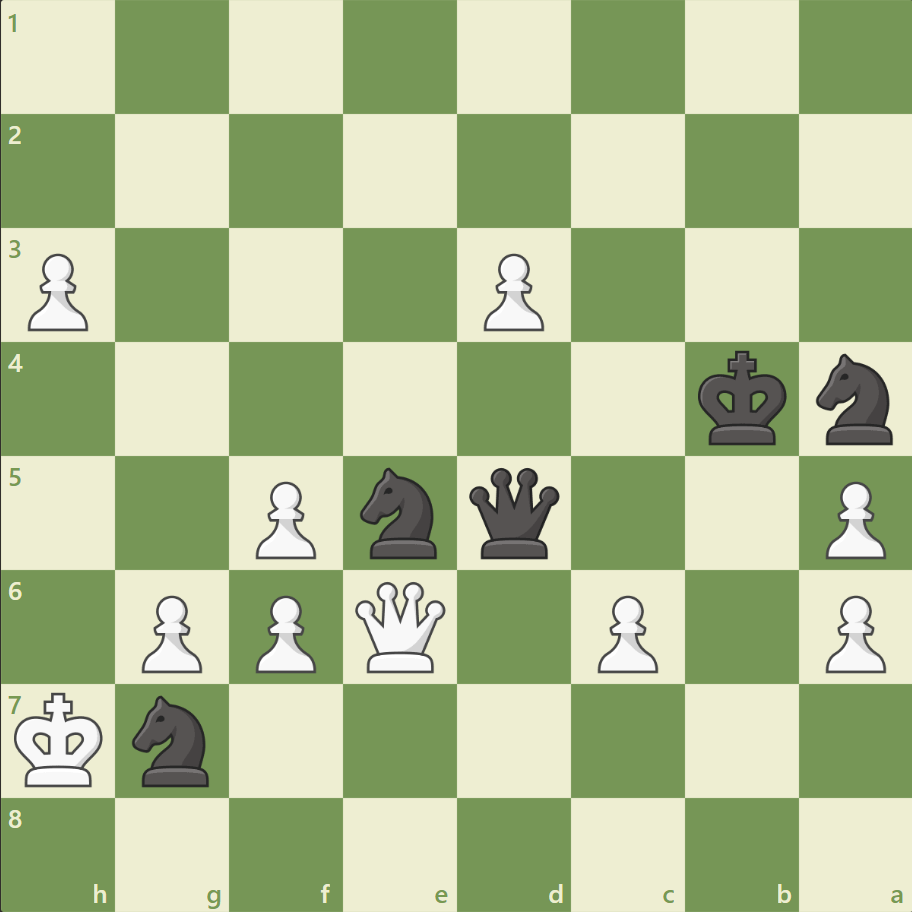K: (11, 685, 111, 793)
P: (247, 586, 322, 677), (133, 586, 208, 677), (247, 473, 322, 564), (474, 246, 549, 337), (20, 246, 95, 337), (815, 586, 889, 677), (588, 586, 662, 677), (815, 473, 889, 564)
Q: (351, 576, 450, 676)
k: (692, 344, 792, 452)
n: (124, 688, 222, 791), (351, 461, 449, 564), (806, 348, 903, 450)
q: (464, 463, 563, 562)
